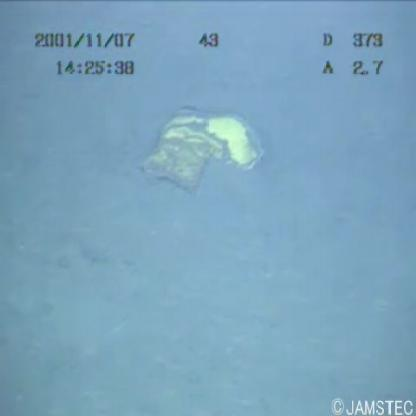Rác: (127, 93, 266, 201)
